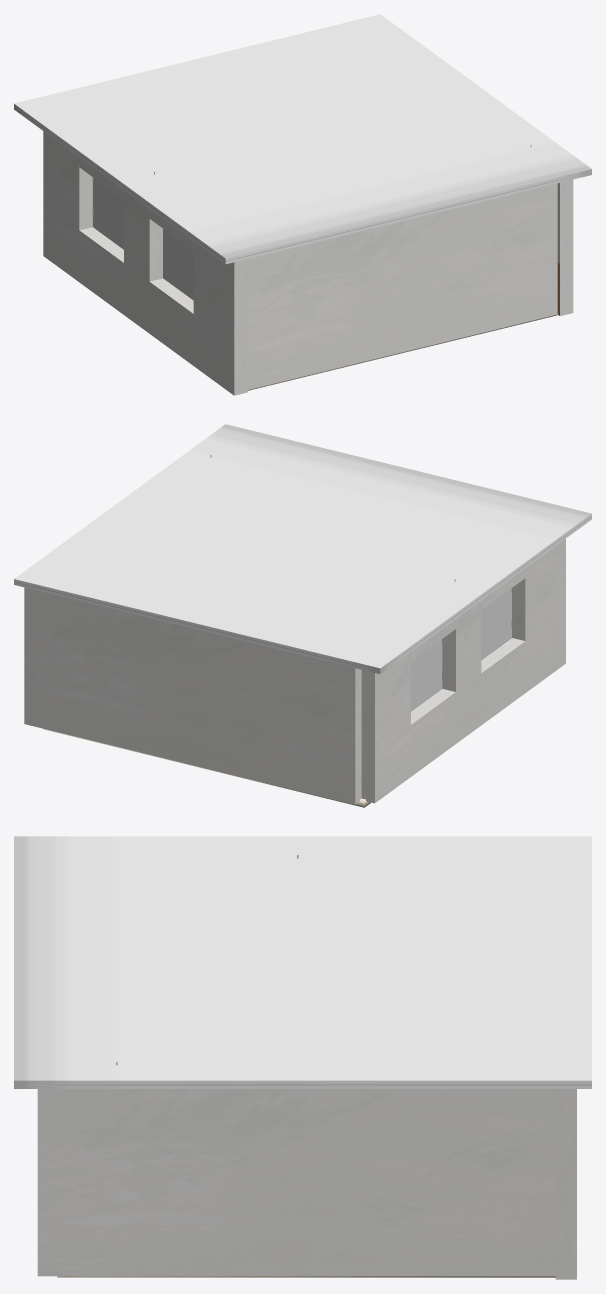
The model's file is escenario.fbx.
3 renders of one model, top to bottom at view 1: azimuth 30°, elevation 25°; view 2: azimuth 150°, elevation 25°; view 3: azimuth 270°, elevation 25°, orthographic. The views are drawn at different scales.
Visible parts, largest first — view 1: techa, pared.002, pared.001, pared.004, window, window.002; view 2: techa, pared, pared.001, window.001, window.003, suelo; view 3: techa, pared.004, pared, suelo.
Part boxes in pixels (left/top/right/bottom): techa: left=14, top=14, right=591, bottom=264; pared.002: left=247, top=183, right=557, bottom=389; pared.001: left=43, top=131, right=247, bottom=395; pared.004: left=557, top=179, right=573, bottom=316; window: left=93, top=178, right=115, bottom=243; window.002: left=163, top=229, right=185, bottom=294; techa: left=14, top=424, right=591, bottom=674; pared: left=24, top=587, right=361, bottom=804; pared.001: left=361, top=539, right=565, bottom=803; window.001: left=419, top=639, right=442, bottom=704; window.003: left=489, top=588, right=511, bottom=653; suelo: left=43, top=729, right=370, bottom=807; techa: left=14, top=836, right=591, bottom=1088; pared.004: left=37, top=1089, right=555, bottom=1276; pared: left=555, top=1089, right=576, bottom=1279; suelo: left=57, top=1276, right=555, bottom=1277.
Bounding box in the file's own units: 747 × 304 × 747.
